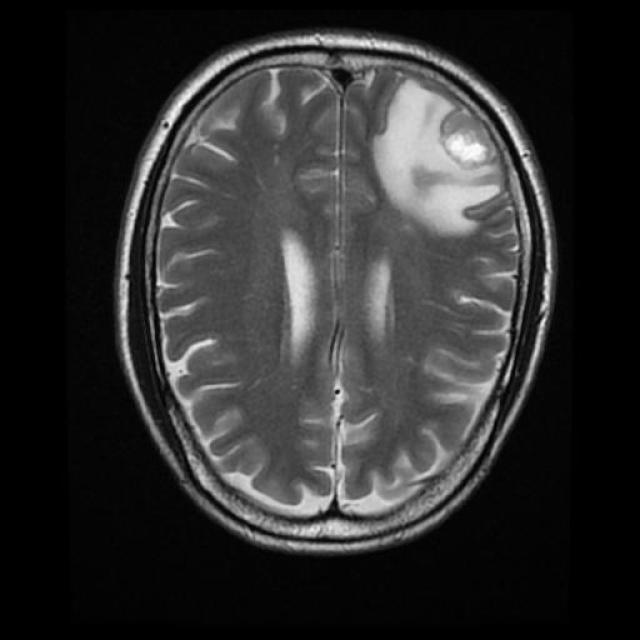Tumor-Cell: (359, 70, 518, 252)
